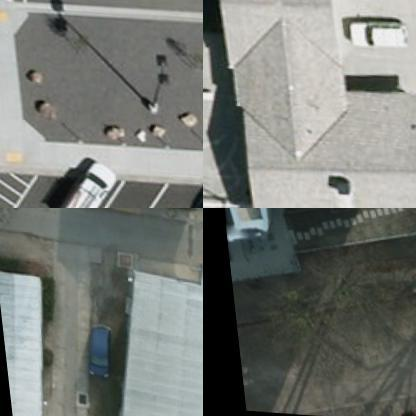car: (342, 12, 406, 45), (74, 319, 106, 371), (170, 167, 202, 207)
pickup: (43, 157, 115, 207)
